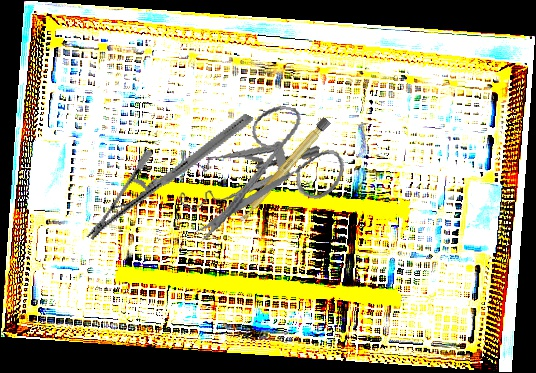Iris Scissors: (193, 94, 354, 266)
Needle Holder: (85, 74, 254, 280)
Scalpel Handle: (236, 116, 331, 224)
Speculum: (173, 125, 321, 228)
